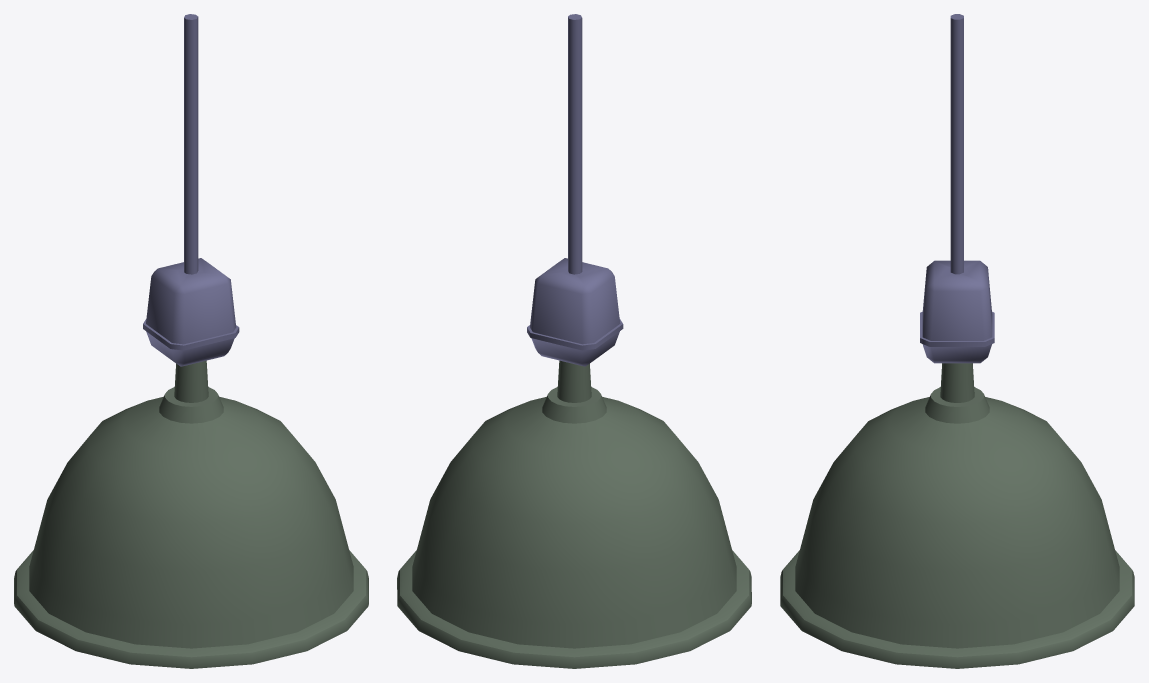
The model's file is TIENDA FOCO_nv1.fbx.
3 views of the same model, side by side, from view 1: azimuth 30°, elevation 25°; view 2: azimuth 150°, elevation 25°; view 3: azimuth 270°, elevation 25° (orthographic).
Parts seen in each view (by area): view 1: Cylinder001, Box001; view 2: Cylinder001, Box001; view 3: Cylinder001, Box001.
Part boxes in pixels (x1,y1,x2,y2): Cylinder001: (14,360,368,668); Box001: (143,14,239,366); Cylinder001: (397,360,751,668); Box001: (527,14,623,366); Cylinder001: (780,363,1134,668); Box001: (920,14,994,363).
Bounding box in the file's own units: 22.86 × 40.4 × 22.52.
